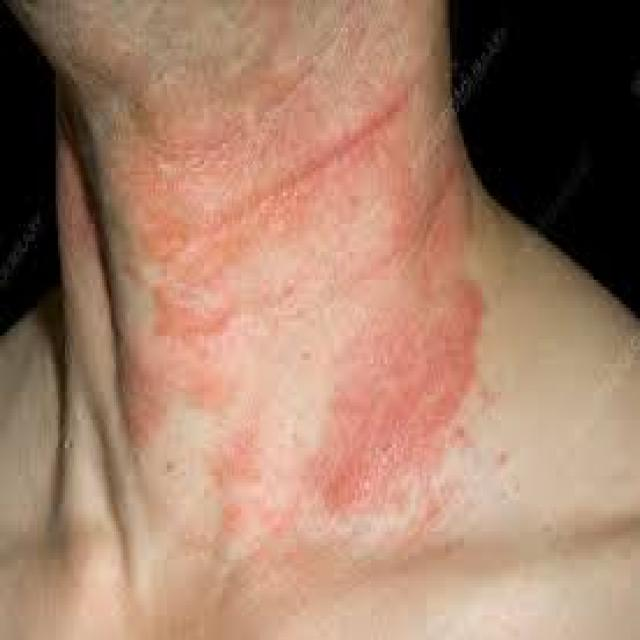Acanthosis Nigricans: (73, 31, 571, 603)
